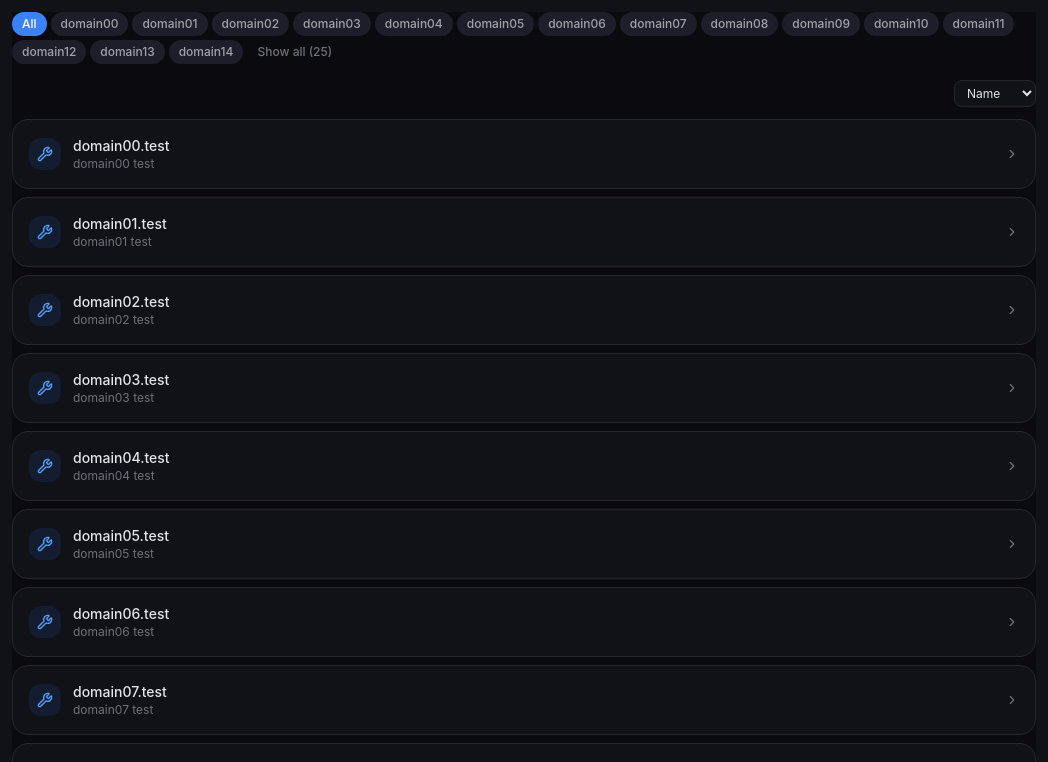
ServiceTab › expandable domain filter › collapses domains when 'Show less' is clicked
Click the button "Show all (25)" at (295, 52), box 248,40 -> 342,64
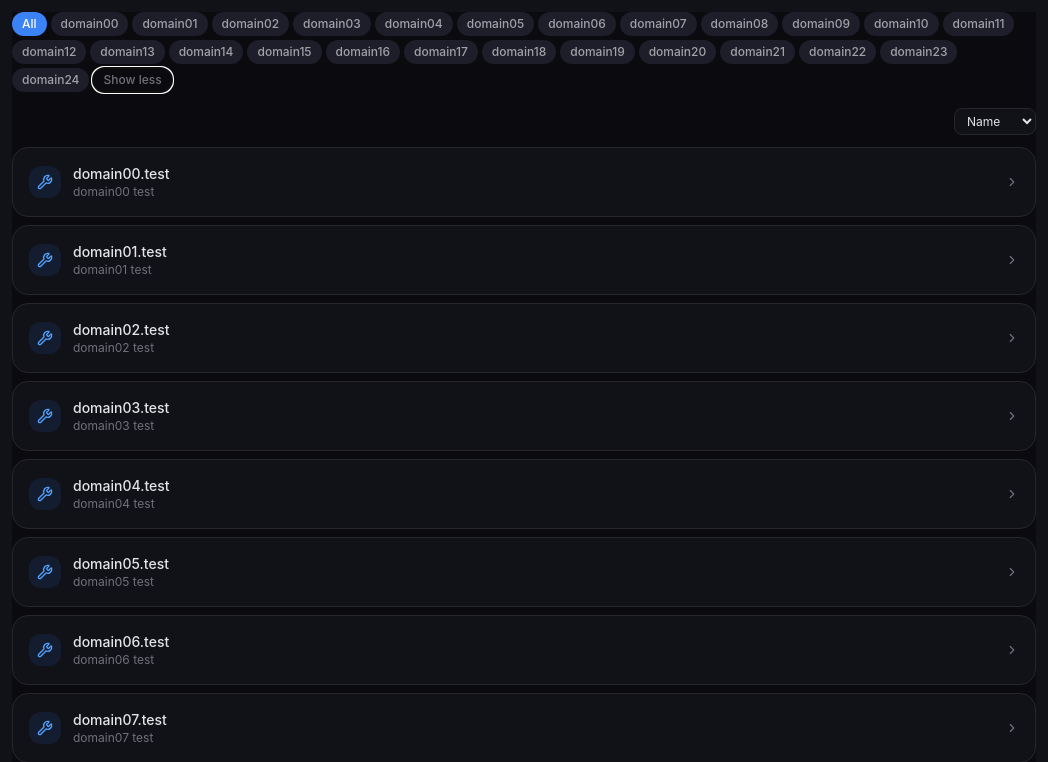
Click the button "Show less" at (133, 80), box 94,68 -> 172,92
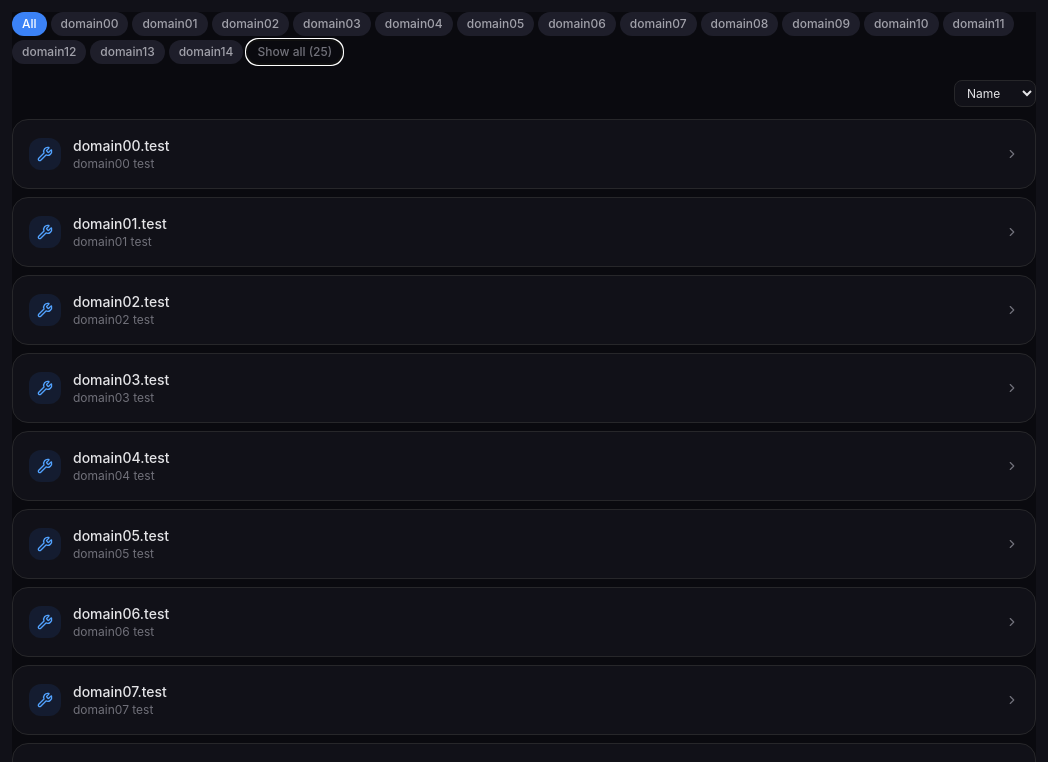
Check: the button "domain24" is not shown
Check: the button "Show all (25)" is shown, box 248,40 -> 342,64
